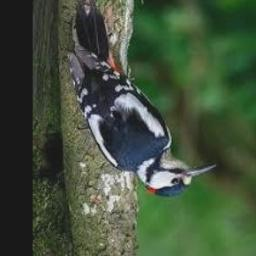Woodpecker: (67, 0, 216, 197)
